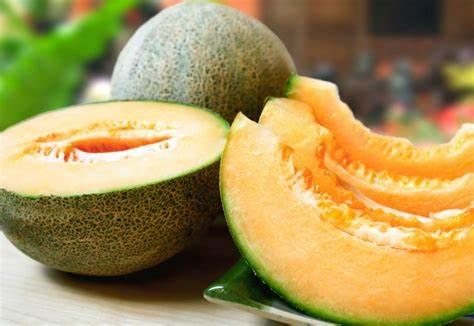Melon Ripe: (221, 112, 474, 324), (0, 101, 229, 275)
